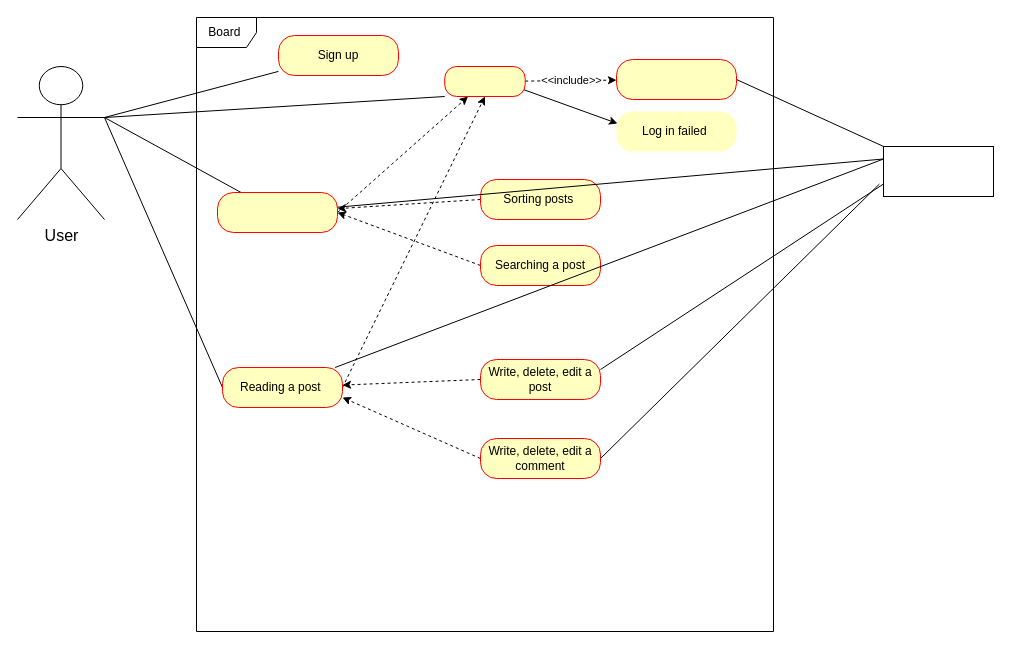
Image size: 1011x649. Some labels were removed from this diagram. Each missing label, with the box of its shape:
Authentication: (616, 58, 736, 100)
DB: (882, 146, 994, 196)
Entering the board: (216, 192, 338, 232)
Log in: (444, 66, 525, 96)
